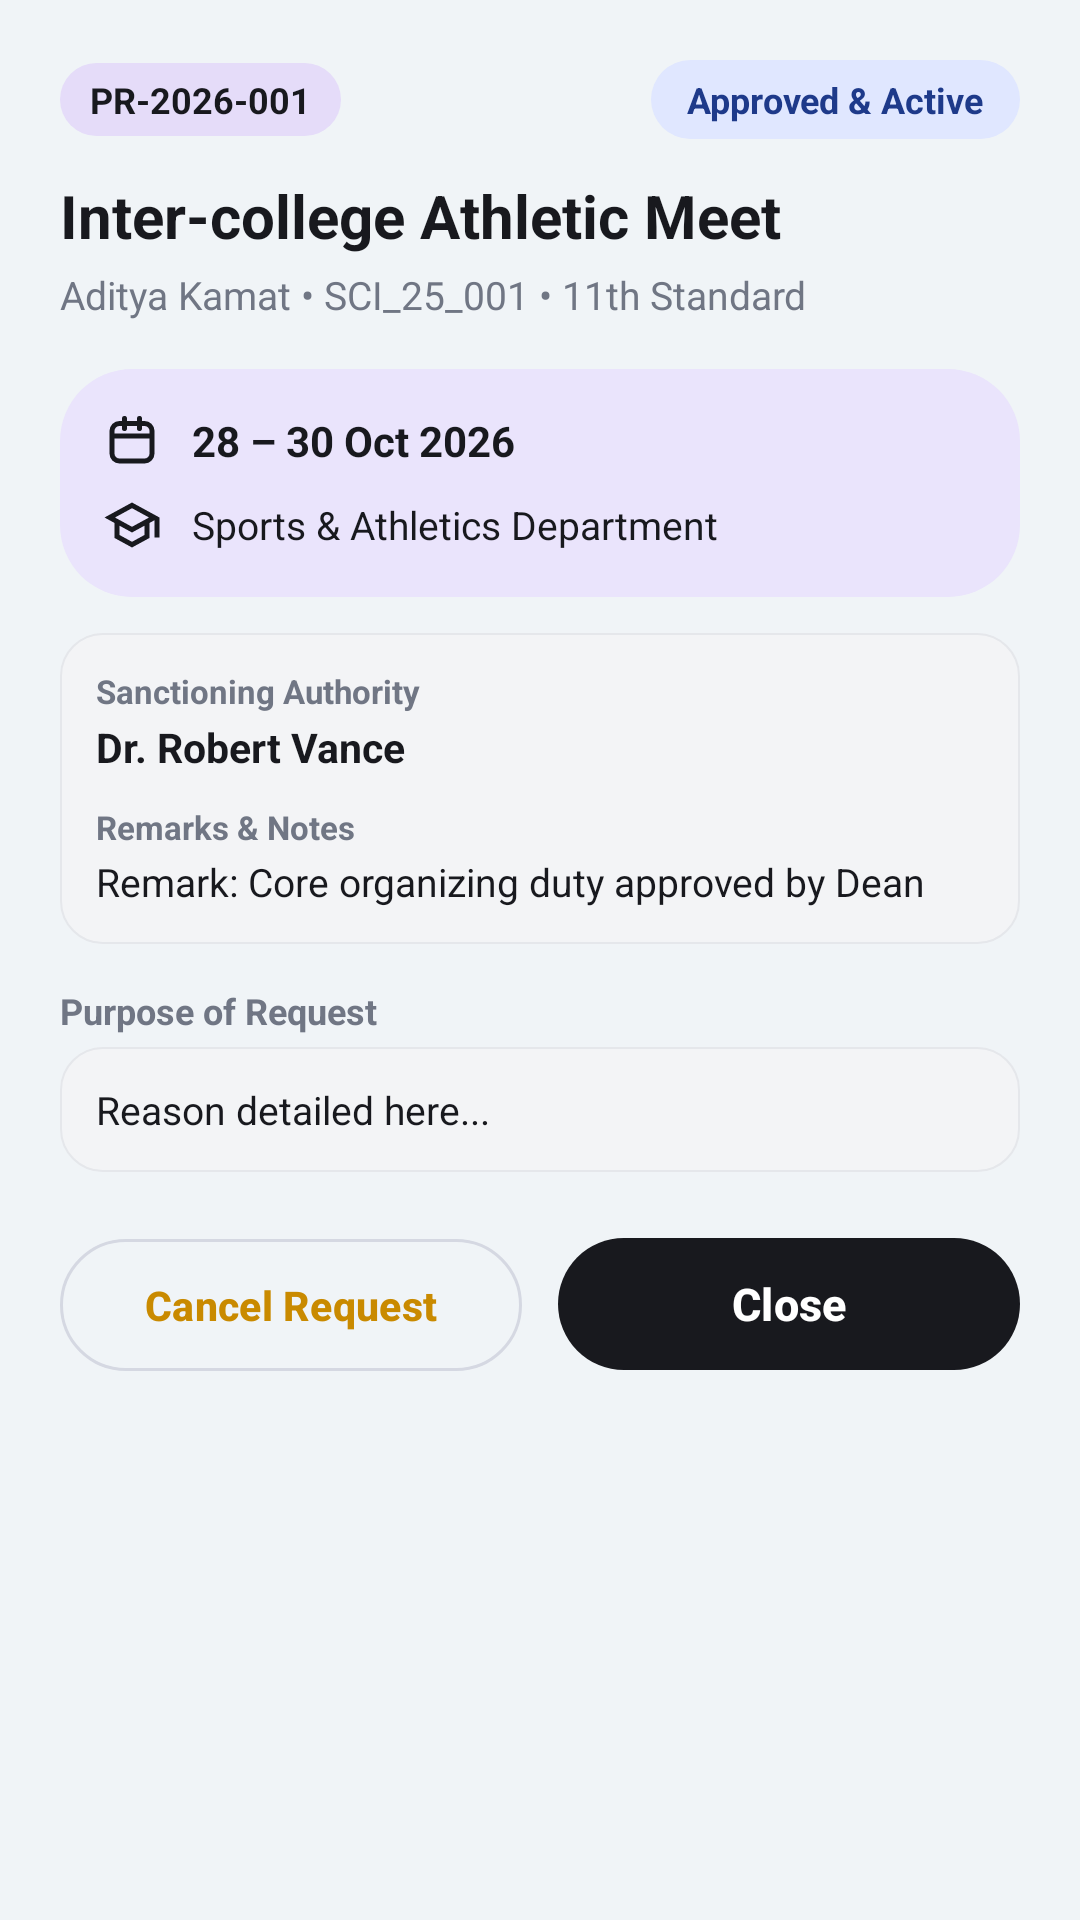

Point at icon controls on the screen. Image size 1080 x 1920, points as point (x, y).
calendar: point (132, 440)
school: point (132, 525)
